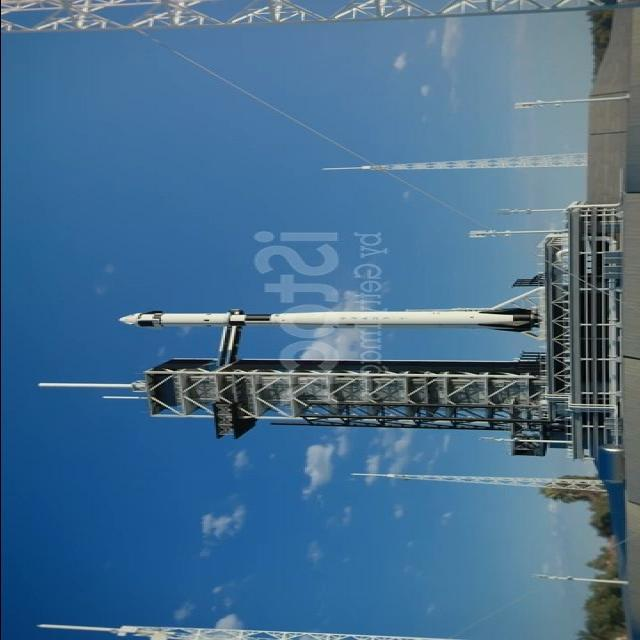Missile: (104, 306, 526, 330)
